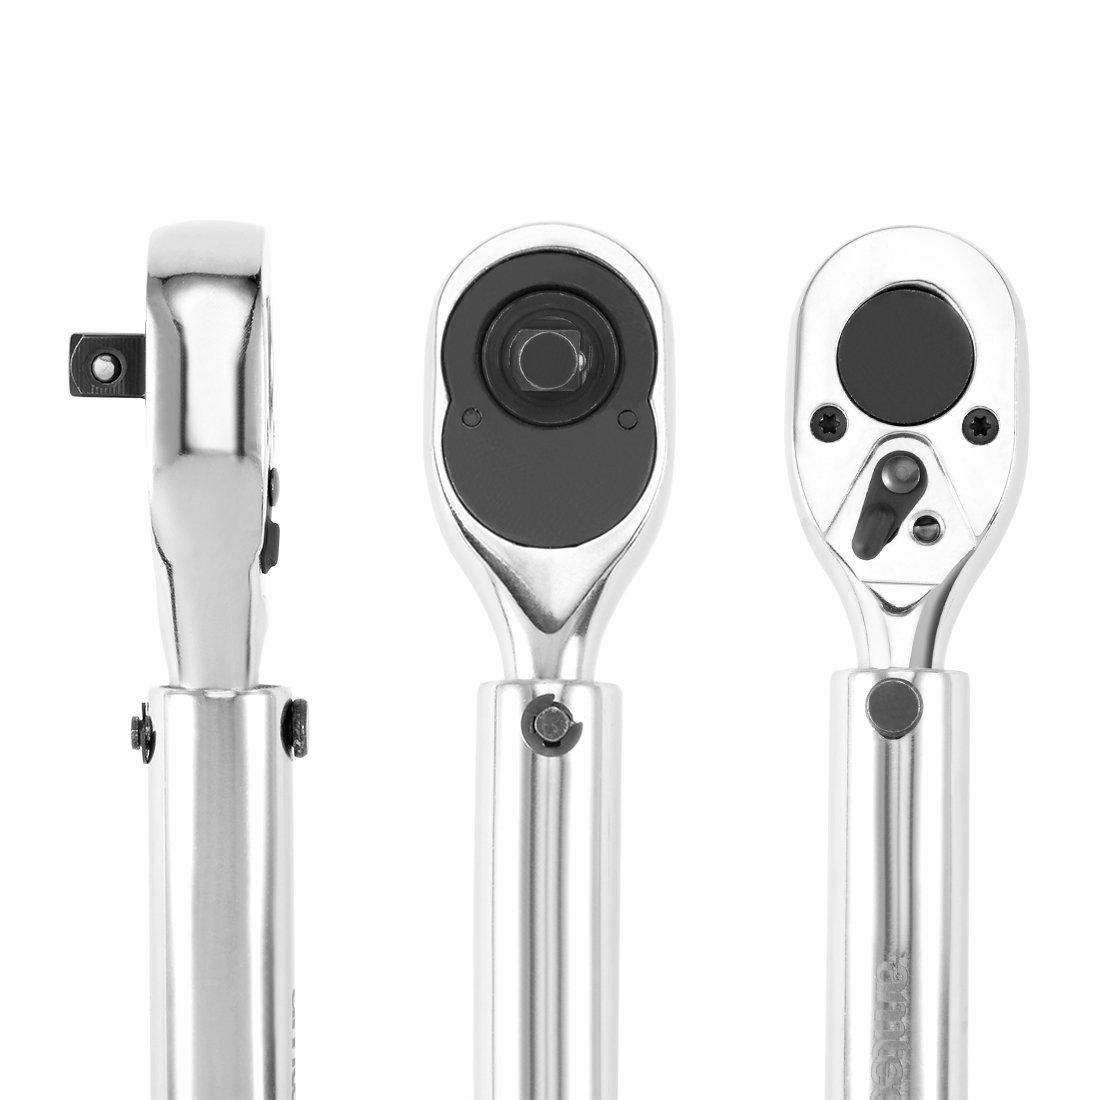Tool: (772, 211, 1047, 671)
